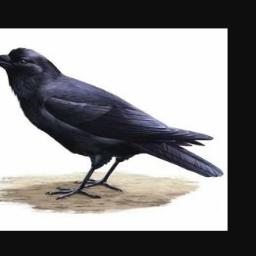Crow: (0, 47, 225, 202)
